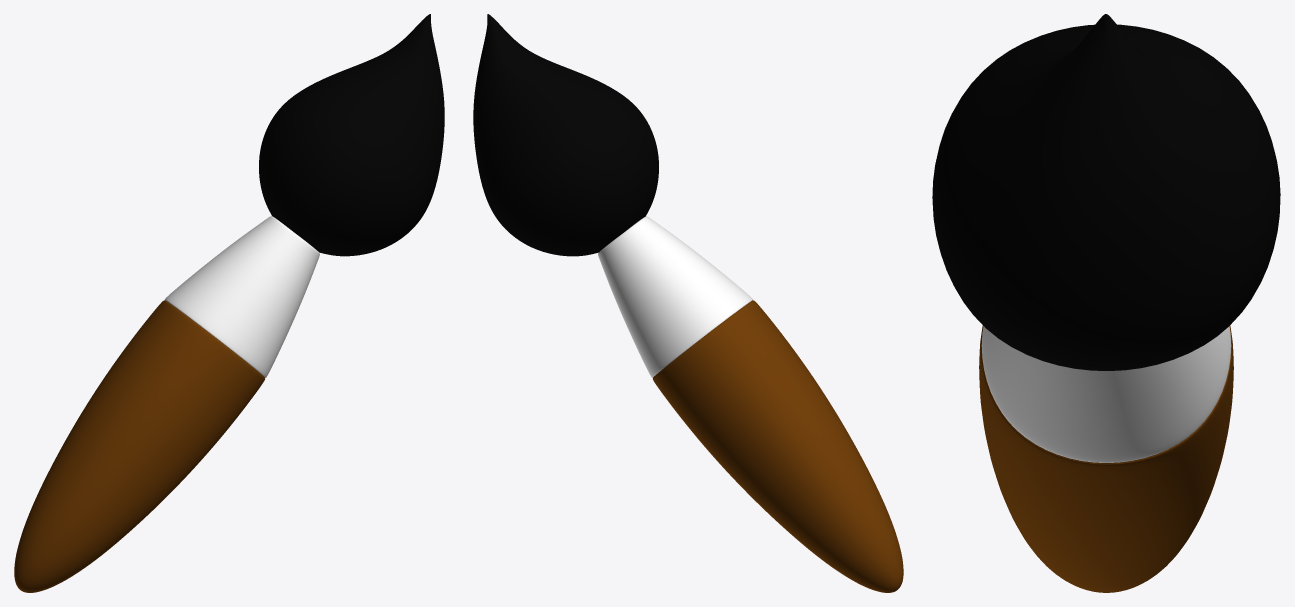
The model's file is painting-brush.glb.
The picture shows the model from 3 angles, left to right: view 1: azimuth 30°, elevation 25°; view 2: azimuth 150°, elevation 25°; view 3: azimuth 270°, elevation 25°; orthographic projection. The views are drawn at different scales.
Parts seen in each view (by area): view 1: Cube.040; view 2: Cube.040; view 3: Cube.040.
Part boxes in pixels (x1=…): Cube.040: x1=14, y1=14, x2=444, y2=592; Cube.040: x1=473, y1=14, x2=903, y2=592; Cube.040: x1=932, y1=14, x2=1280, y2=592.
Bounding box in the file's own units: 1.65 × 1.81 × 0.5993.
